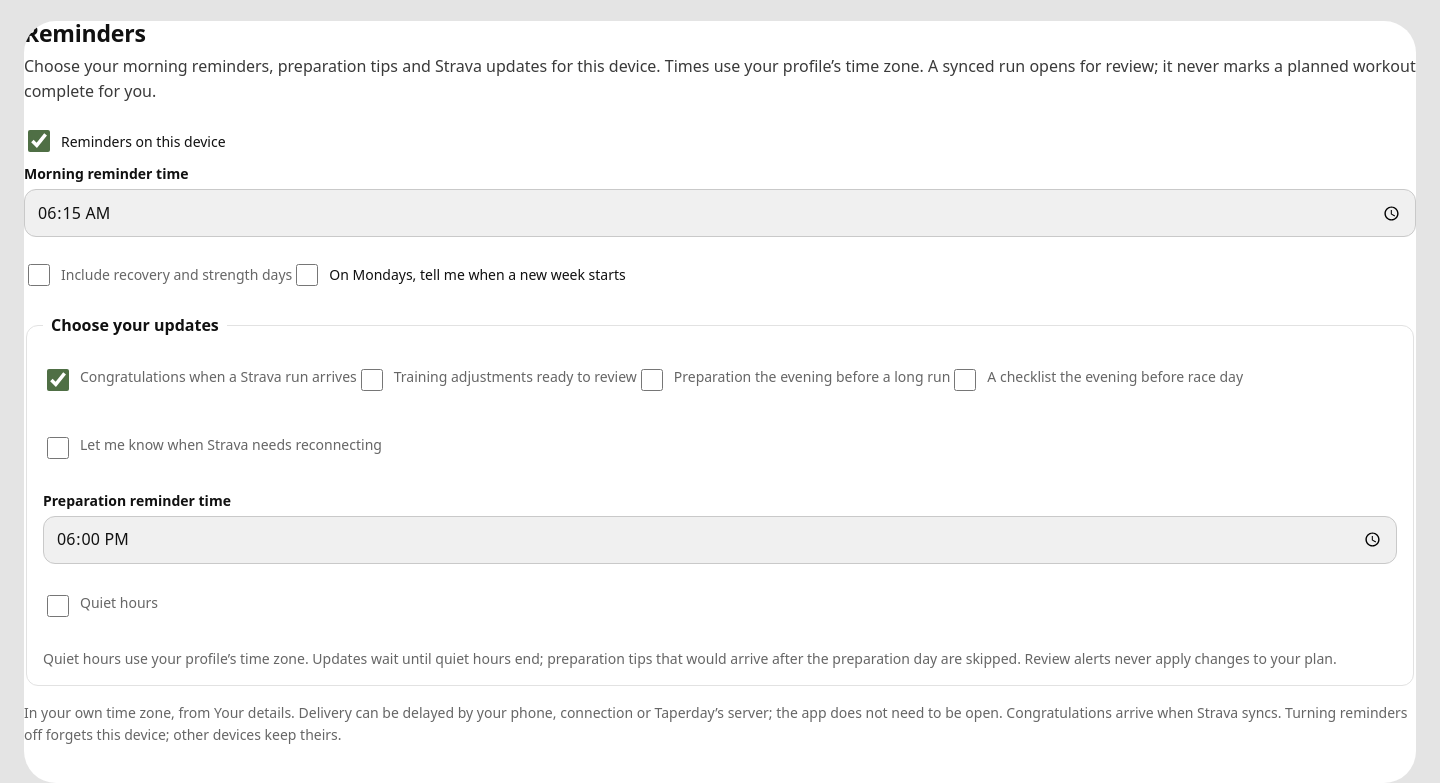
Scenario: reminders in Account › knows this device is on, saves a new time or choice straight away, and turning off forgets it
Check: the switch labelled "Reminders on this device" is checked, box [28,130,50,152]
Check: the checkbox labelled "On Mondays, tell me when a new week starts" is not checked, box [296,264,318,286]
Replace the text in the time field labelled "Morning reminder time" with "05:45" at coordinates (720, 213), box [24,189,1416,237]
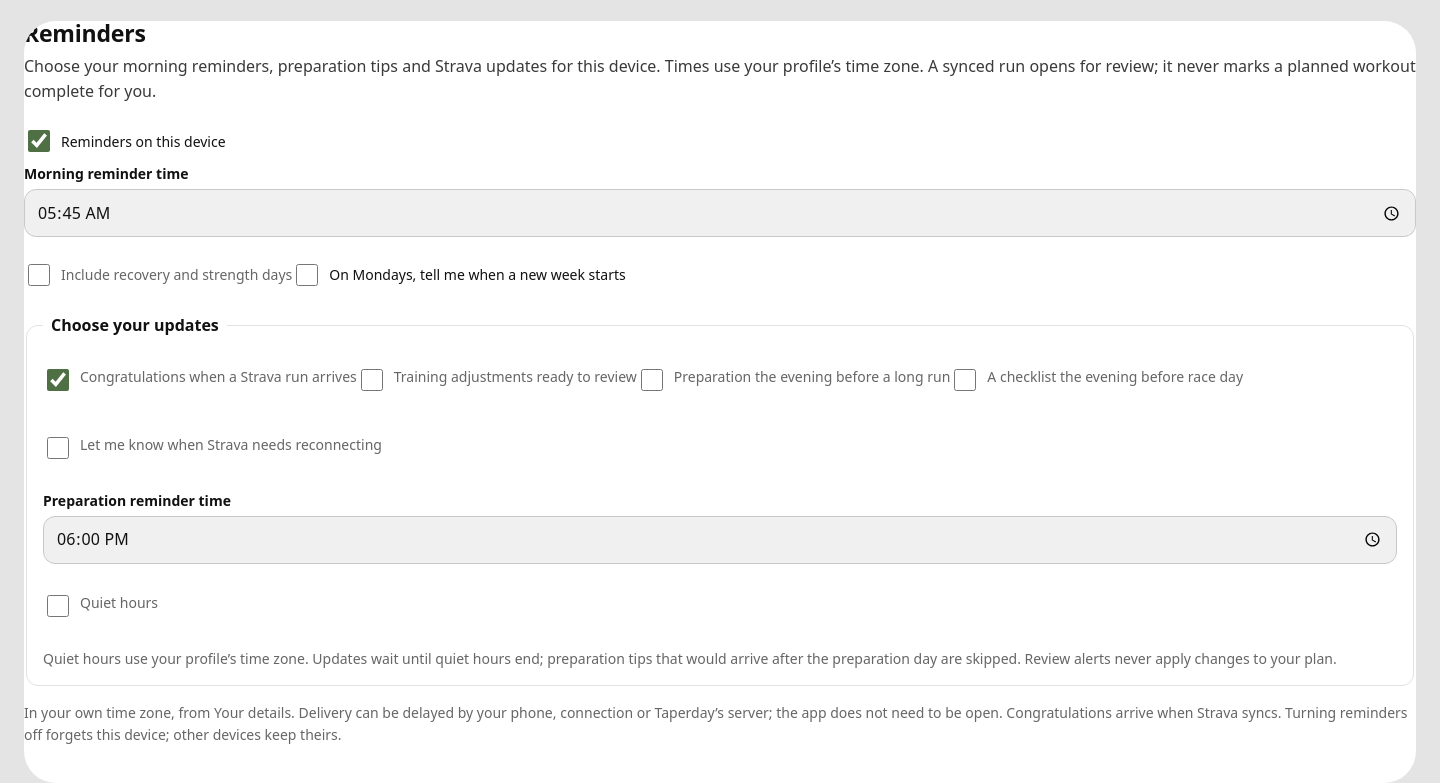
Click the checkbox labelled "On Mondays, tell me when a new week starts" at coordinates (307, 275), box [296,264,318,286]
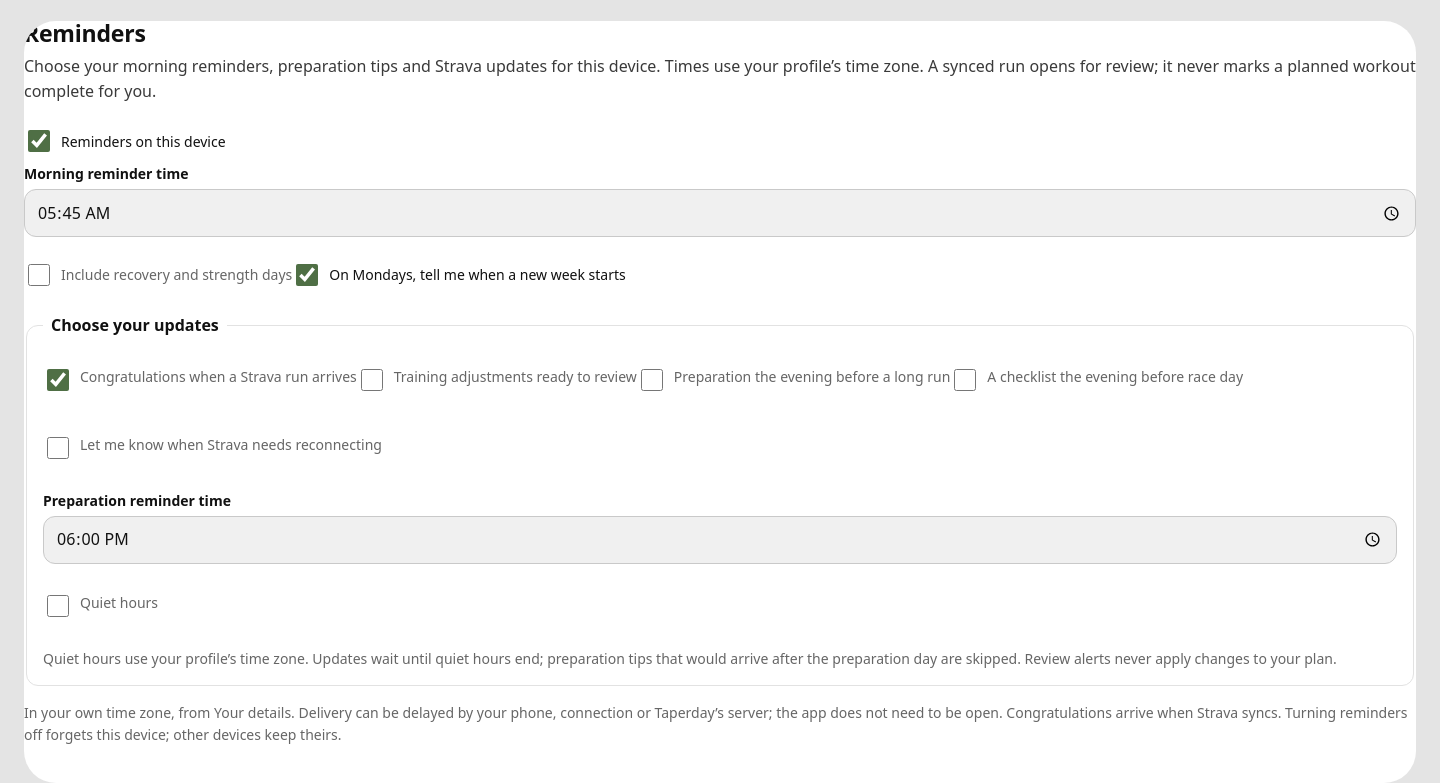
Click the switch labelled "Reminders on this device" at coordinates (39, 142), box [28,130,50,152]
(page scrolled)
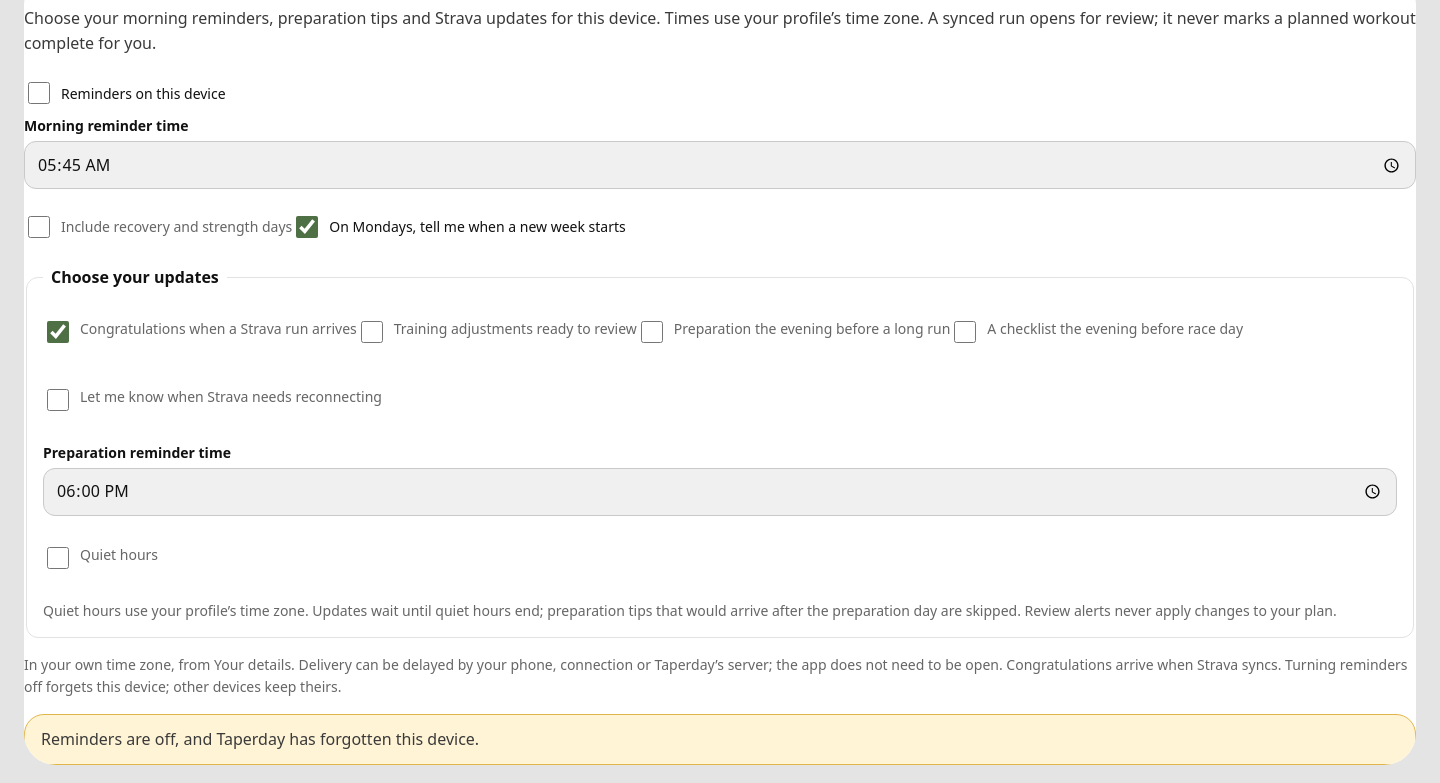
Check: the switch labelled "Reminders on this device" is not checked, box [28,82,50,104]
Check: the message reads "Reminders are off, and Taperday has forgotten this device.", box [41,728,479,750]
